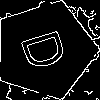D: (20, 24, 77, 73)
